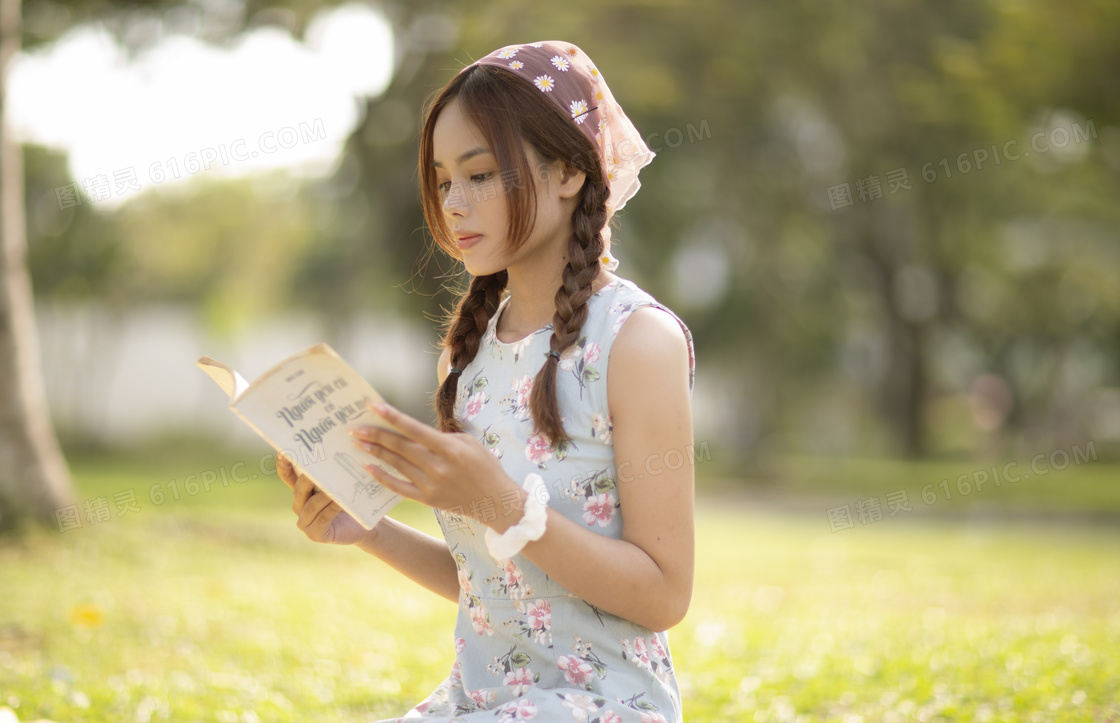book: (187, 329, 456, 552)
